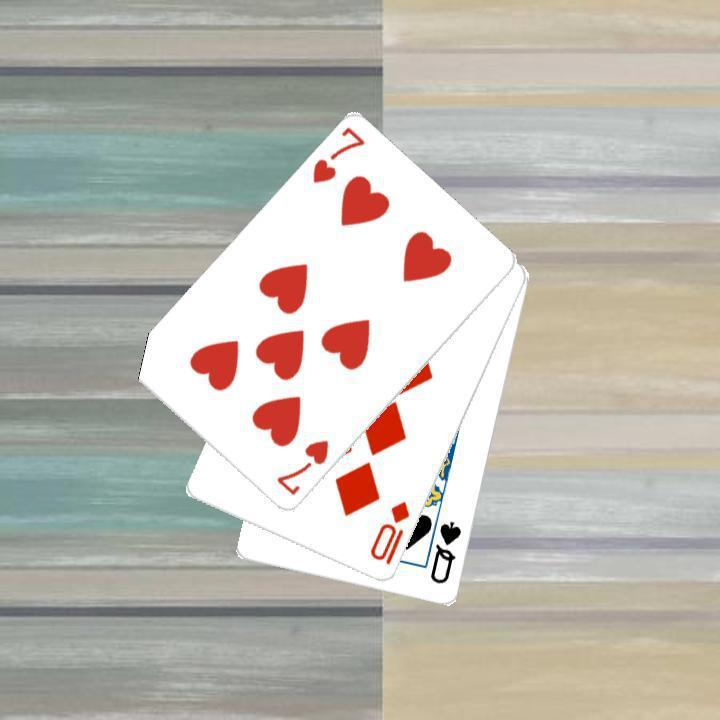10: (365, 497, 412, 567)
7: (308, 122, 367, 186), (272, 436, 331, 498)
Q: (426, 517, 464, 587)
